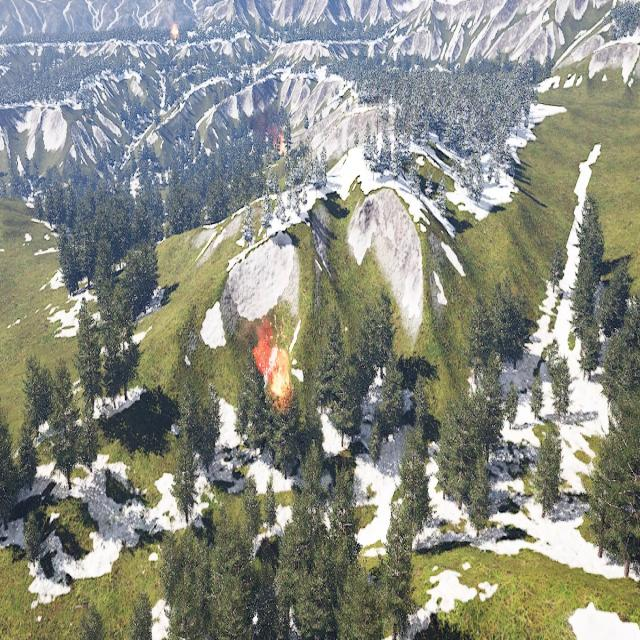fire: (270, 370, 291, 401), (277, 134, 286, 154), (172, 23, 179, 40)
smoke: (253, 323, 278, 376), (256, 110, 279, 141), (162, 0, 177, 25)
